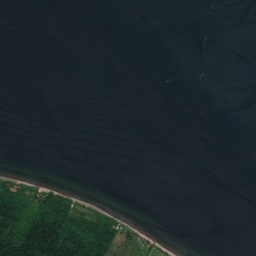Marine Debris: (198, 72, 206, 85)
